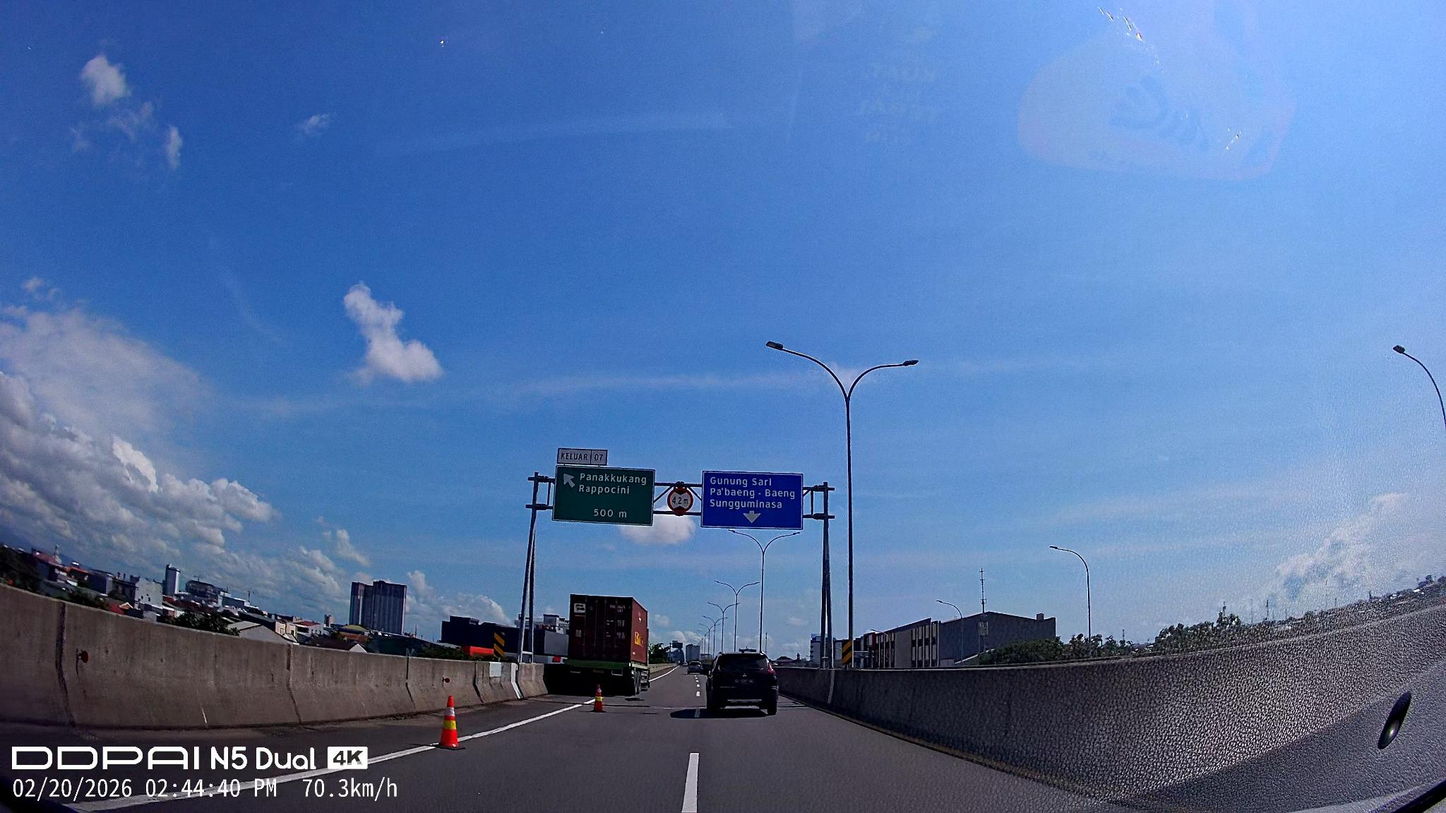rambu_teks: (551, 465, 655, 527), (701, 471, 803, 531)
